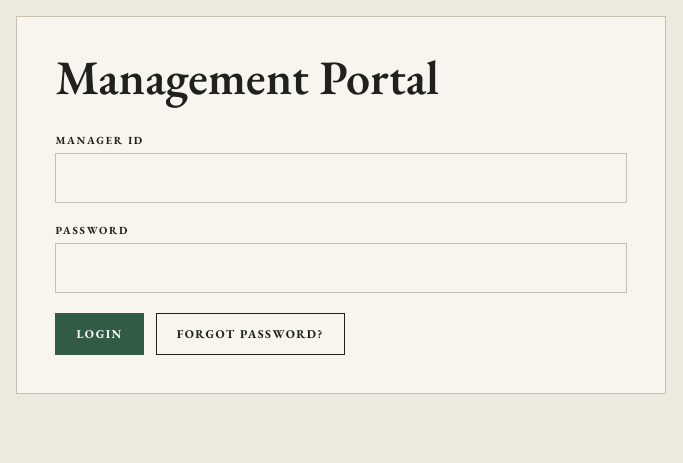
Test: Management Portal access › forces password change after logging in with a temporary manager password
Expected: the heading "Management Portal" is shown, [55,46,439,108]
Type "MG0001" into the field labelled "Manager ID" at (341, 178), box [55,153,627,203]
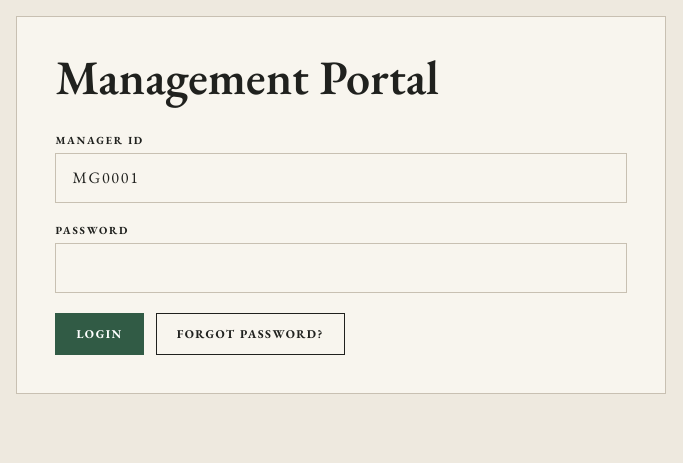
Type "temporary" into the password field labelled "Password" at (341, 268), box [55,242,627,292]
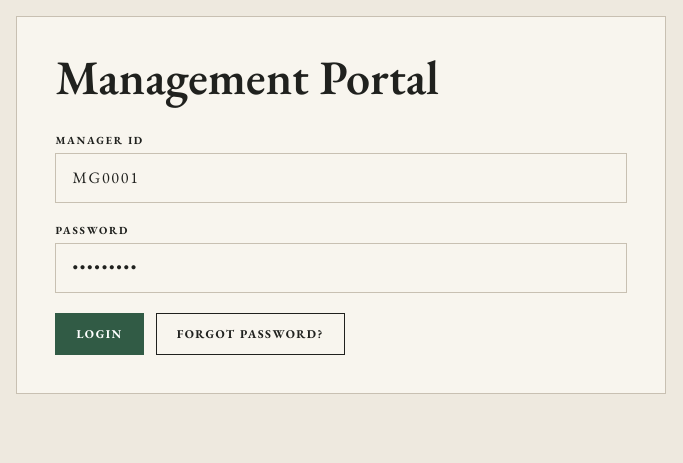
Click the button "Login" at (100, 334), box [55,312,144,354]
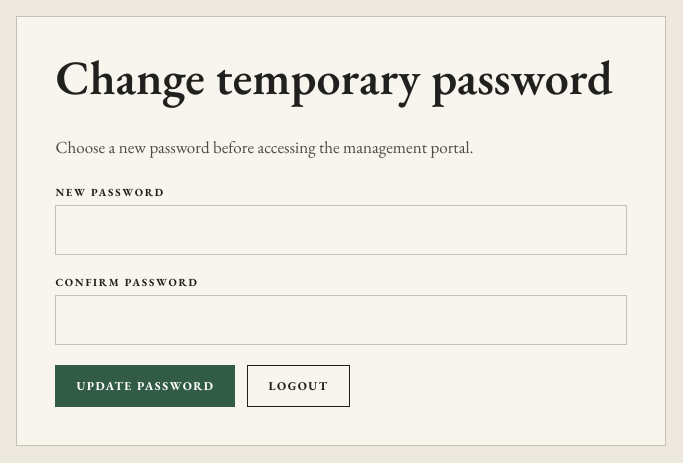
Result: the heading "Change temporary password" is shown at [55,55,627,101]
